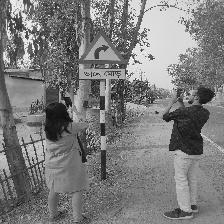Right-turn: (77, 31, 128, 80)
